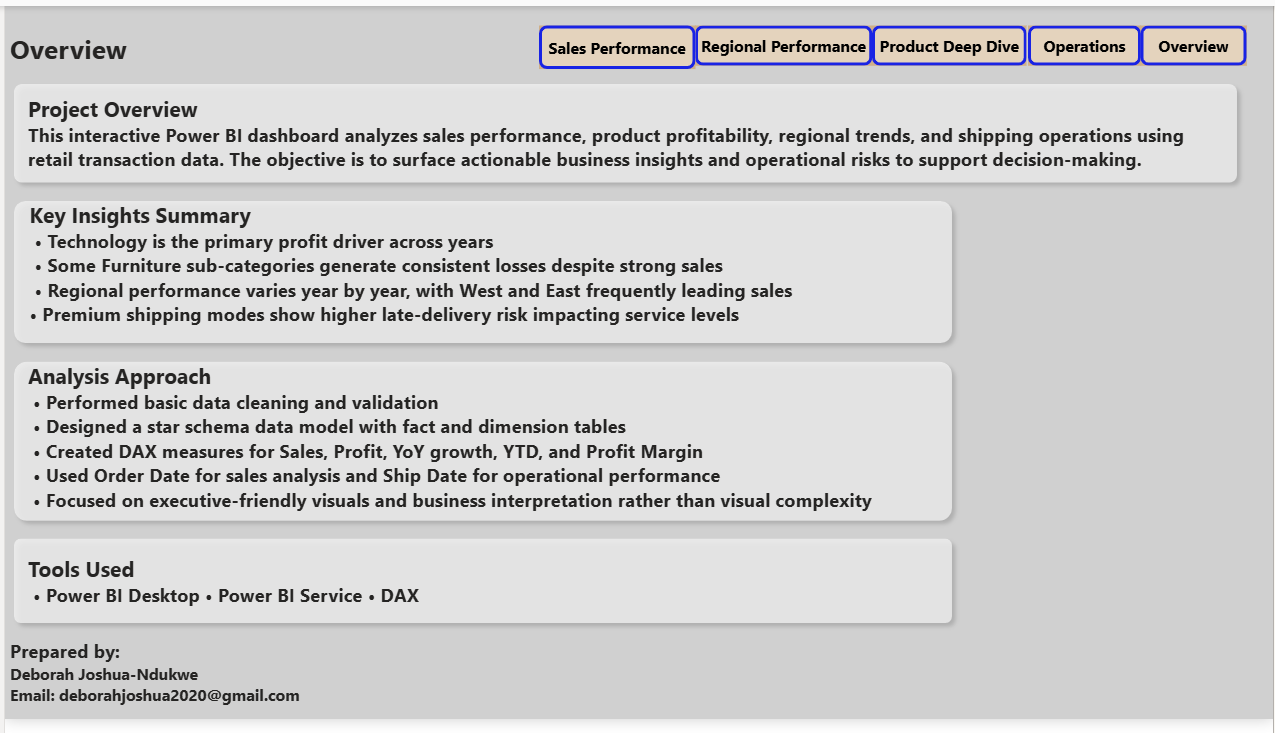

The page's visual inventory and layout, read from the dashboard file:
{"tool":"powerbi","page":{"name":"Page 5","canvas":[1280,720],"ordinal":4},"visuals":[{"type":"actionButton","box":[875.4,19.3,156.1,40.4],"z":0,"group":"g5"},{"type":"shape","box":[0,70.2,1252.6,117.5],"z":0,"group":"g4"},{"type":"group","id":"g1","title":"Group 1","box":[0,173.7,964.9,175.4],"z":0},{"type":"shape","box":[0,187.8,964.9,161.4],"z":0,"group":"g1"},{"type":"shape","box":[0,349.1,964.9,178.9],"z":0,"group":"g2"},{"type":"shape","box":[0,528.1,964.9,103.5],"z":0,"group":"g3"},{"type":"actionButton","box":[696.5,19.3,178.9,40.4],"z":1000,"group":"g5"},{"type":"textbox","box":[17.5,84.2,1215.8,103.5],"z":1000,"group":"g4"},{"type":"textbox","box":[19.7,173.7,945.3,154.4],"z":1000,"group":"g1"},{"type":"group","id":"g2","title":"Group 2","box":[0,349.1,964.9,178.9],"z":1000},{"type":"textbox","box":[17.5,351.4,889.5,177.2],"z":1000,"group":"g2"},{"type":"textbox","box":[17.5,547.4,463.2,70.2],"z":1000,"group":"g3"},{"type":"actionButton","box":[538.6,19.3,157.9,43.9],"z":2000,"group":"g5"},{"type":"textbox","box":[0,633.3,391.2,86],"z":2000},{"type":"actionButton","box":[1145.6,19.3,107,40.4],"z":3000,"group":"g5"},{"type":"group","id":"g3","title":"Group 3","box":[0,528.1,964.9,103.5],"z":3000},{"type":"group","id":"g4","title":"Group 4","box":[0,70.2,1252.6,117.5],"z":4000},{"type":"group","id":"g5","title":"Nav_button","box":[538.6,19.3,714,43.9],"z":5000},{"type":"textbox","box":[0,19.3,277.2,61.4],"z":6000},{"type":"actionButton","box":[1031.6,19.3,114,40.4],"z":6500,"group":"g5"}]}

Visuals, with their boxes in screenshot pixels (x1, y1, x2, y2), scaled from the page's 1280x720 canvas onto the 1275x733 screenshot:
actionButton: BBox(872, 20, 1027, 61)
shape: BBox(0, 71, 1248, 191)
"Group 1" group: BBox(0, 177, 961, 355)
shape: BBox(0, 191, 961, 356)
shape: BBox(0, 355, 961, 538)
shape: BBox(0, 538, 961, 643)
actionButton: BBox(694, 20, 872, 61)
textbox: BBox(17, 86, 1228, 191)
textbox: BBox(20, 177, 961, 334)
"Group 2" group: BBox(0, 355, 961, 538)
textbox: BBox(17, 358, 903, 538)
textbox: BBox(17, 557, 479, 629)
actionButton: BBox(536, 20, 694, 64)
textbox: BBox(0, 645, 390, 732)
actionButton: BBox(1141, 20, 1248, 61)
"Group 3" group: BBox(0, 538, 961, 643)
"Group 4" group: BBox(0, 71, 1248, 191)
"Nav_button" group: BBox(536, 20, 1248, 64)
textbox: BBox(0, 20, 276, 82)
actionButton: BBox(1028, 20, 1141, 61)
